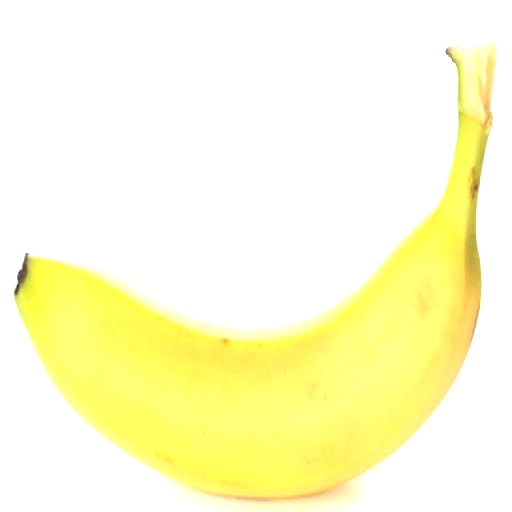fruit: (16, 42, 495, 497)
